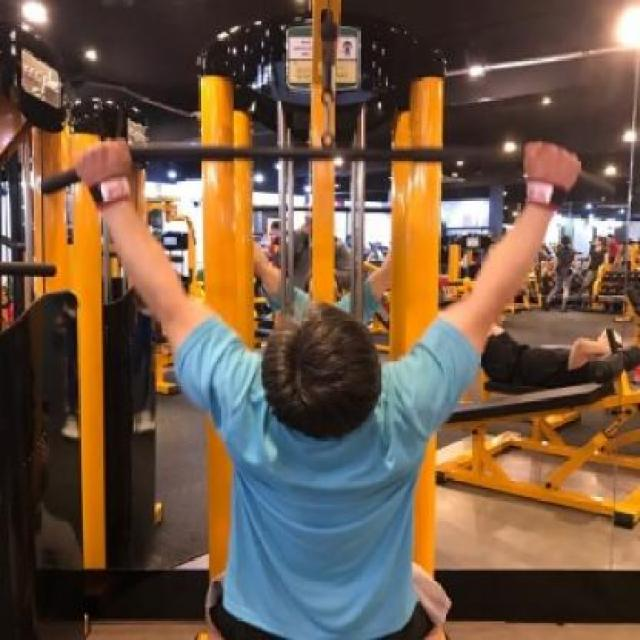Lat Pull Down: (26, 0, 628, 640)
